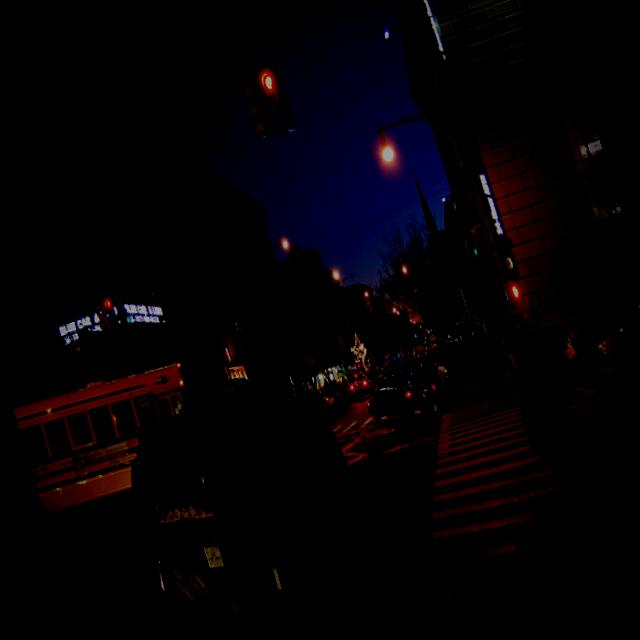Vehicle: (12, 354, 221, 548), (358, 365, 442, 430), (583, 299, 640, 366), (400, 353, 439, 398), (346, 369, 376, 402), (322, 381, 352, 412)
